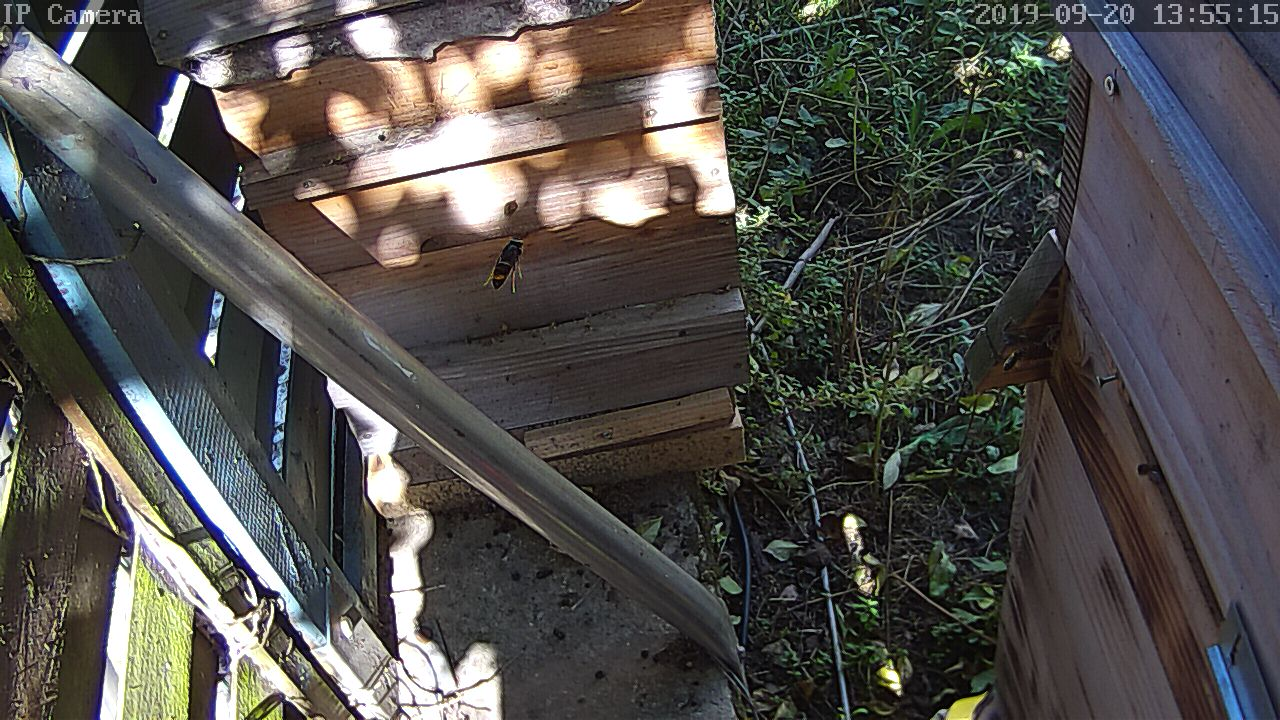bee: (1003, 335, 1026, 366)
hornet: (484, 231, 527, 289)
